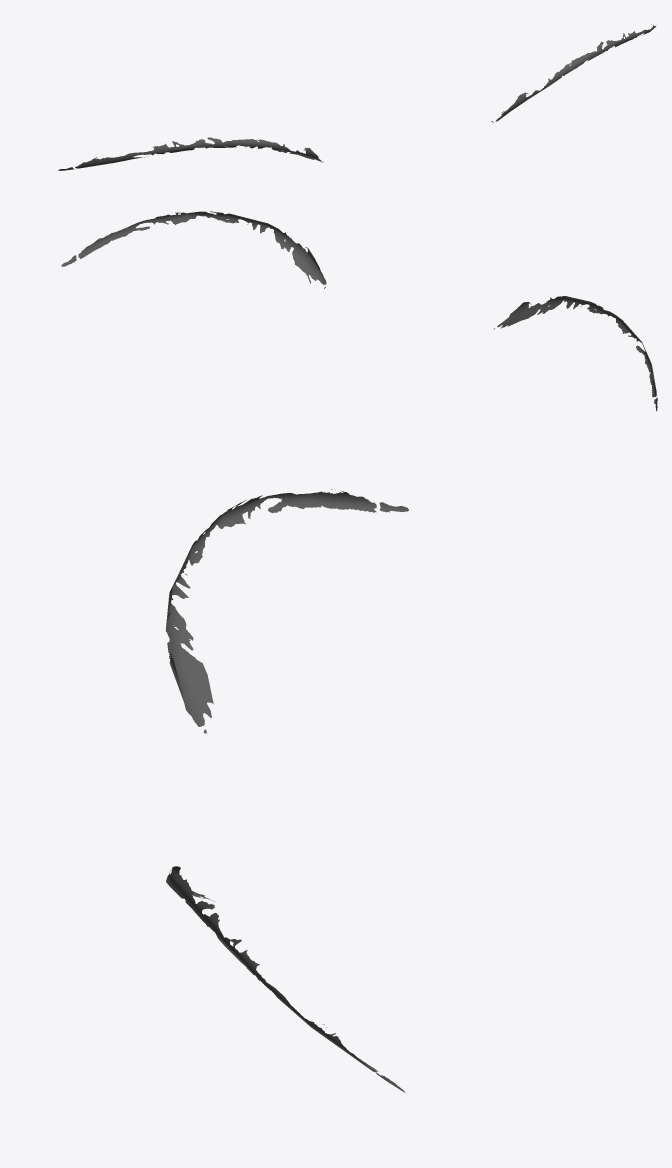
The model's file is brow006.glb.
3 views of the same model, one above another, from view 1: azimuth 30°, elevation 25°; view 2: azimuth 150°, elevation 25°; view 3: azimuth 270°, elevation 25° (orthographic). The views are drawn at different scales.
Visible parts, largest first — view 1: editor_brow006; view 2: editor_brow006; view 3: editor_brow006.
Part boxes in pixels (x1,y1,x2,y2): editor_brow006: (58, 24, 655, 170); editor_brow006: (61, 211, 657, 411); editor_brow006: (165, 489, 408, 1092).
Bounding box in the file's own units: 0.1154 × 0.0116 × 0.0266.
Materials: 1 (1 with a texture image).
